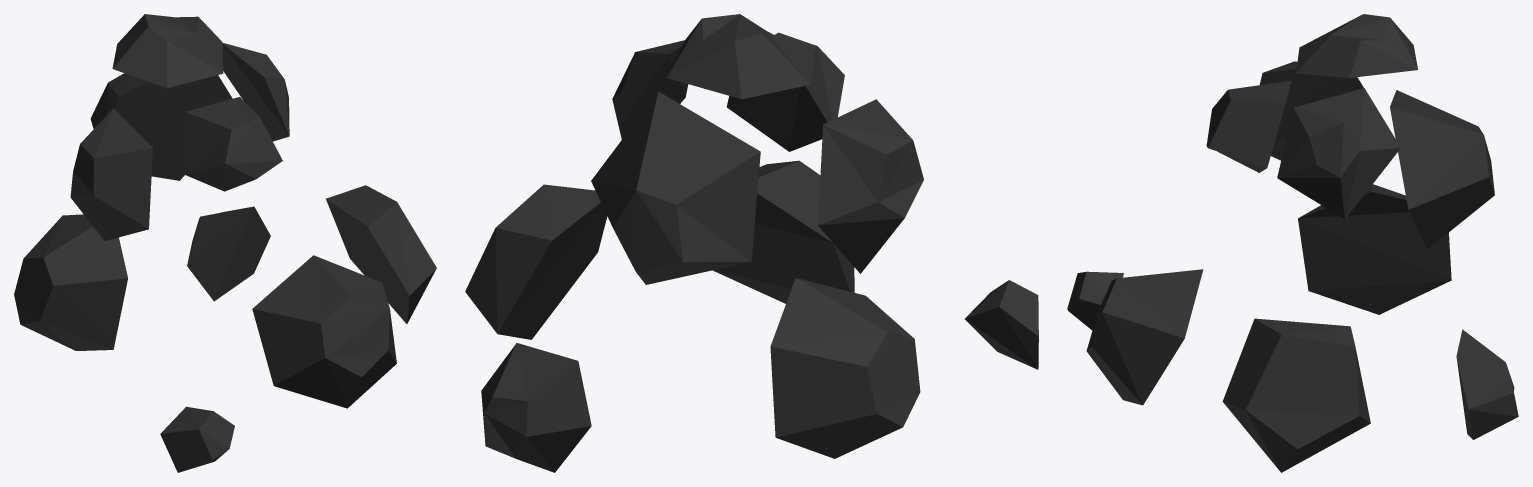
File: CoalOreC.fbx
3 renders of one model, left to right at view 1: azimuth 30°, elevation 25°; view 2: azimuth 150°, elevation 25°; view 3: azimuth 270°, elevation 25°, orthographic. The views are drawn at different scales.
Parts seen in each view (by area): view 1: CoalOreC; view 2: CoalOreC; view 3: CoalOreC.
Boxes of the visible parts, x1=… form: CoalOreC: x1=14, y1=14, x2=436, y2=472; CoalOreC: x1=465, y1=14, x2=1038, y2=472; CoalOreC: x1=1067, y1=14, x2=1518, y2=472.
Bounding box in the file's own units: 47.85 × 42.22 × 47.73.
